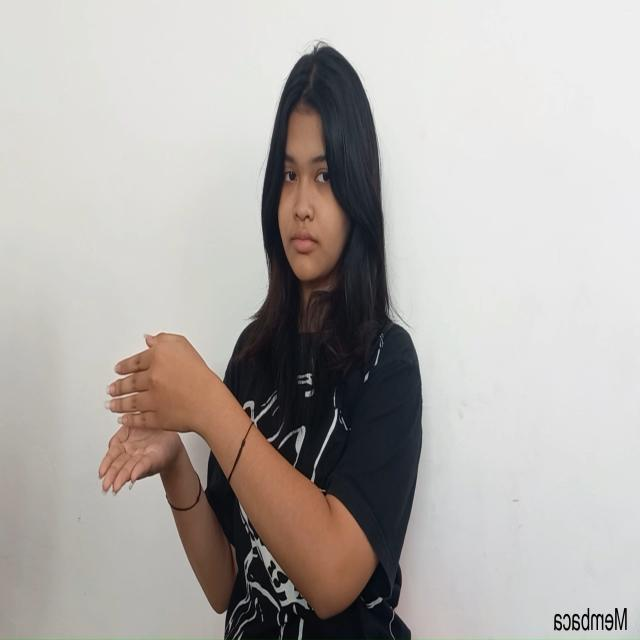Membaca -BISINDO-: (97, 330, 212, 498)
